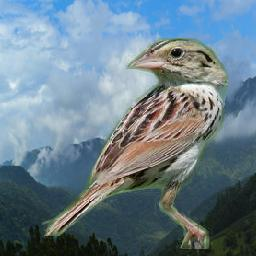Sparrow: (42, 39, 228, 250)
